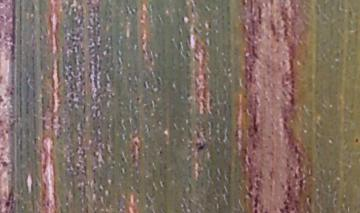tarspot: (353, 134, 360, 146)
